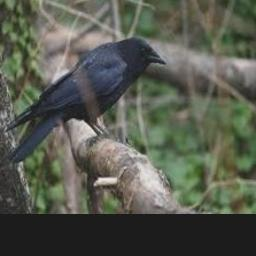Crow: (1, 37, 166, 166)
